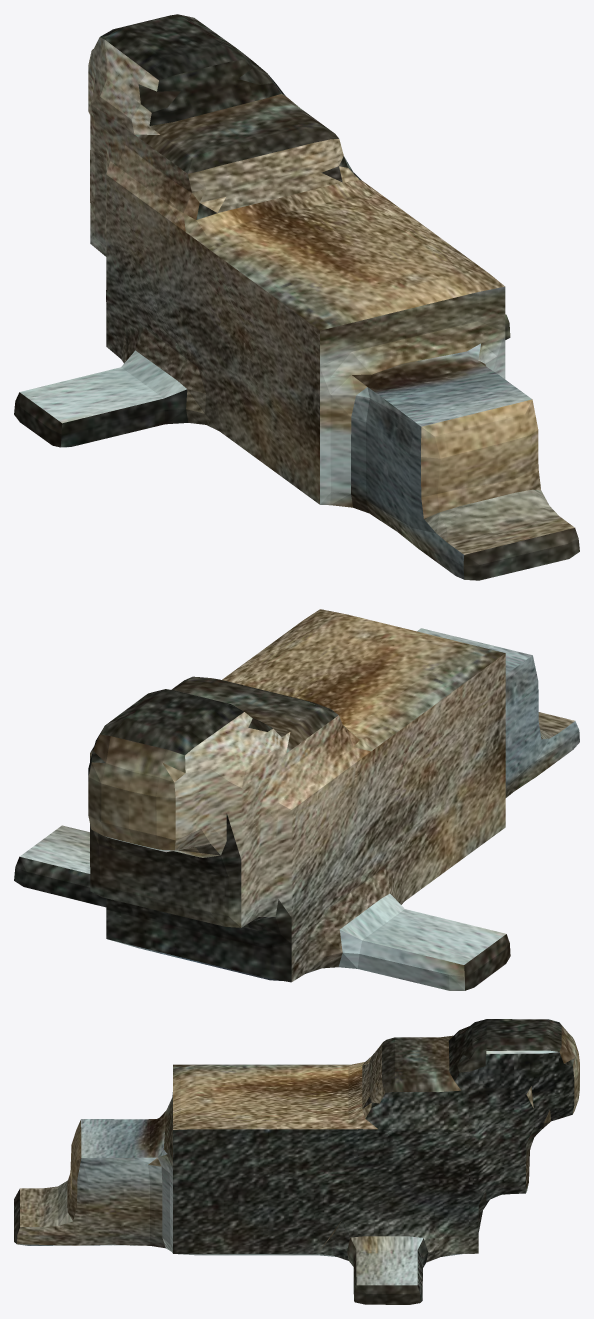
Rendered from LEONMARINO.fbx.
3 views of the same model, one above another, from view 1: azimuth 30°, elevation 25°; view 2: azimuth 150°, elevation 25°; view 3: azimuth 270°, elevation 25° (orthographic). The views are drawn at different scales.
Parts seen in each view (by area): view 1: Leon_Marino; view 2: Leon_Marino; view 3: Leon_Marino.
Boxes of the visible parts, bbox=[...] form: Leon_Marino: bbox=[14, 14, 579, 580]; Leon_Marino: bbox=[14, 609, 579, 990]; Leon_Marino: bbox=[14, 1019, 579, 1304].
Size of the model in its own units: 294 by 175 by 444.
1 material, 1 textured.
